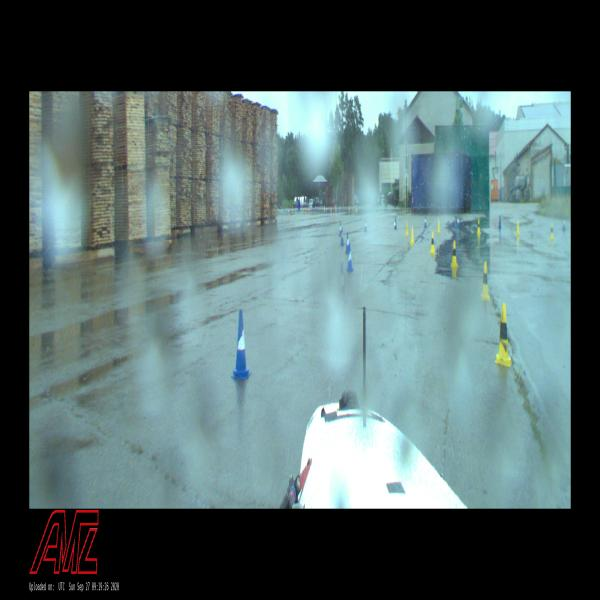blue_cone: (231, 310, 251, 380), (338, 263, 346, 302), (347, 244, 353, 272), (340, 227, 345, 246), (345, 232, 349, 254), (562, 218, 566, 232), (498, 215, 501, 229), (394, 216, 397, 229), (364, 219, 367, 232), (457, 215, 460, 228), (339, 222, 341, 236), (424, 216, 426, 228)
yellow_cone: (495, 303, 512, 367), (481, 262, 490, 302), (451, 240, 458, 267), (430, 232, 435, 255), (410, 226, 415, 244), (550, 222, 554, 240), (477, 219, 481, 235), (516, 220, 520, 236), (405, 221, 408, 237), (437, 219, 440, 234)
